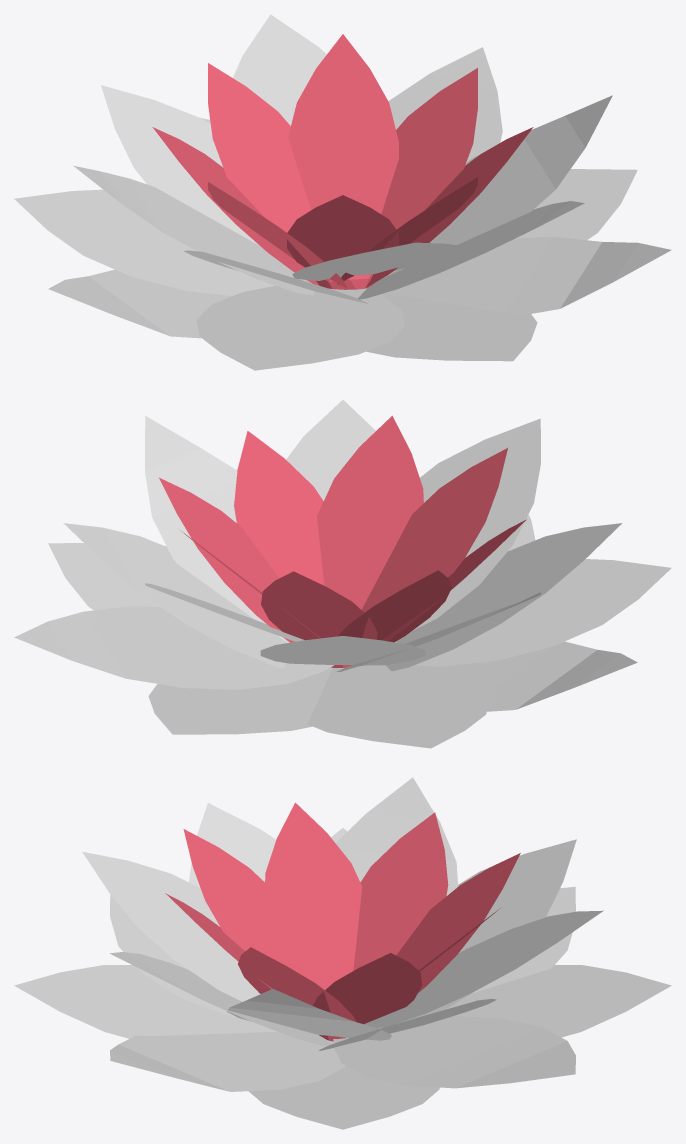
Rendered from Lily flower 2.fbx.
3 views of the same model, one above another, from view 1: azimuth 30°, elevation 25°; view 2: azimuth 150°, elevation 25°; view 3: azimuth 270°, elevation 25° (orthographic). The views are drawn at different scales.
Visible parts, largest first — view 1: Lily flower 1; view 2: Lily flower 1; view 3: Lily flower 1.
Boxes of the visible parts, box(x1,y1,x2,y2) form: Lily flower 1: box(14, 14, 671, 370); Lily flower 1: box(14, 400, 671, 748); Lily flower 1: box(14, 777, 671, 1129).
Size of the model in its own units: 3.12 by 1.04 by 3.12.
